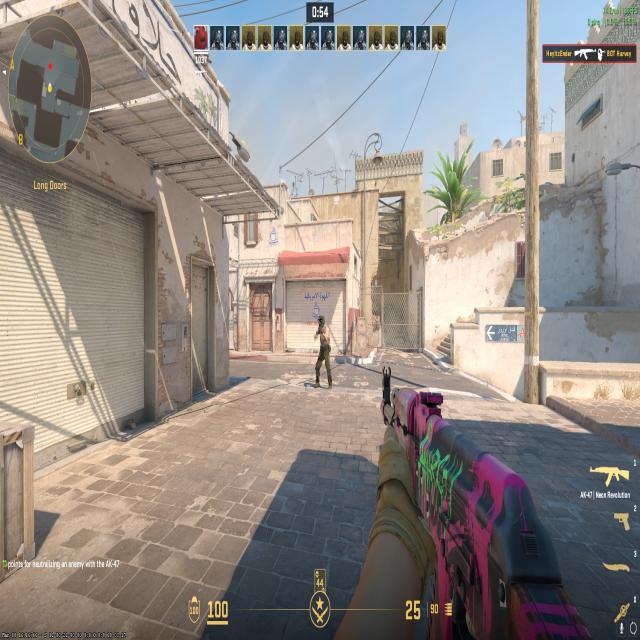t: (311, 300, 336, 390)
